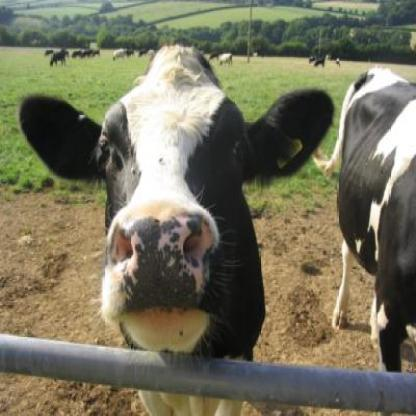lower: (124, 320, 206, 346)
mouth: (102, 207, 217, 350)
upper: (108, 221, 206, 314)
